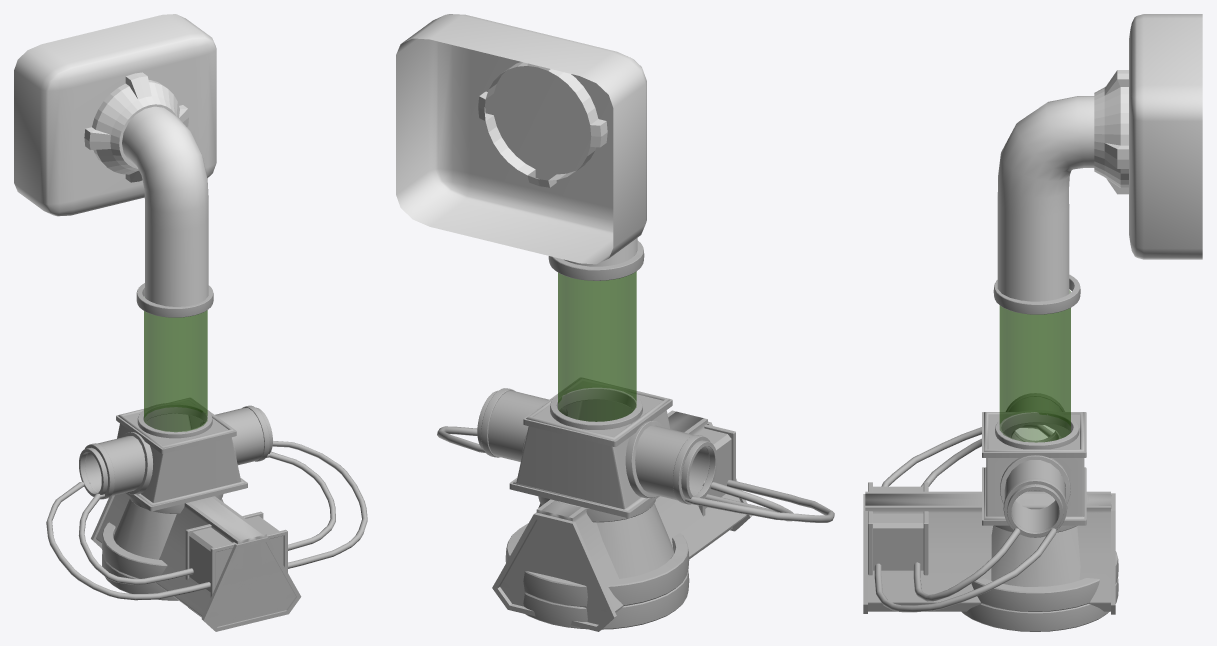
The model's file is Pick_Up(1).fbx.
The picture shows the model from 3 angles, left to right: view 1: azimuth 30°, elevation 25°; view 2: azimuth 150°, elevation 25°; view 3: azimuth 270°, elevation 25°; orthographic projection. The views are drawn at different scales.
Parts seen in each view (by area): view 1: PickUp_Base, Cube.003, PickUp_Glass.001, PickUp_Glass, PickUp_Base.001; view 2: Cube.003, PickUp_Base, PickUp_Glass, PickUp_Base.001; view 3: PickUp_Base, Cube.003, PickUp_Glass.001, PickUp_Glass, PickUp_Base.001.
Part boxes in pixels (left/top/right/bottom): PickUp_Base: left=46, top=398, right=367, bottom=631; Cube.003: left=14, top=14, right=216, bottom=216; PickUp_Glass.001: left=122, top=106, right=208, bottom=306; PickUp_Glass: left=144, top=297, right=207, bottom=431; PickUp_Base.001: left=136, top=283, right=213, bottom=317; Cube.003: left=396, top=14, right=646, bottom=264; PickUp_Base: left=437, top=377, right=834, bottom=631; PickUp_Glass: left=558, top=271, right=636, bottom=421; PickUp_Base.001: left=548, top=240, right=644, bottom=280; PickUp_Base: left=863, top=393, right=1118, bottom=631; Cube.003: left=1094, top=14, right=1202, bottom=259; PickUp_Glass.001: left=997, top=96, right=1094, bottom=301; PickUp_Glass: left=999, top=290, right=1070, bottom=442; PickUp_Base.001: left=993, top=274, right=1080, bottom=314.
Bounding box in the file's own units: 7.54 × 11.76 × 6.63.
